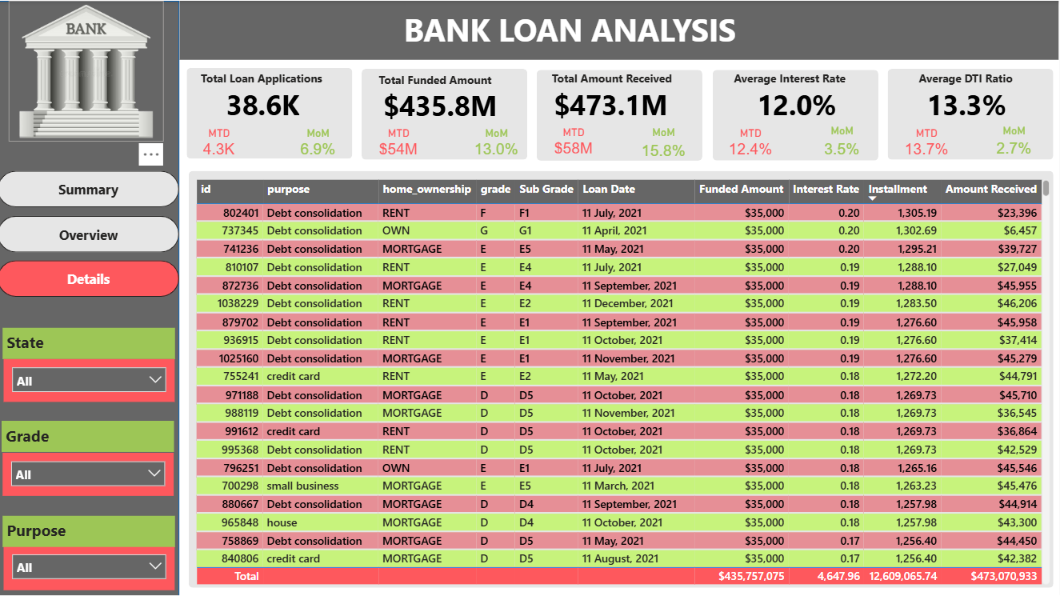

The page's visual inventory and layout, read from the dashboard file:
{"tool":"powerbi","page":{"name":"Details","canvas":[1280,720],"ordinal":2},"visuals":[{"type":"shape","box":[0,0,219.3,719.9],"z":0},{"type":"shape","box":[219.6,0,1060.5,71.2],"z":1000},{"type":"textbox","box":[485,4.8,439.1,60.3],"z":2000},{"type":"shape","box":[228,80.8,200,109.8],"z":3000},{"type":"cardVisual","fields":{"Data":["bank_project financial_loan.Total Loan Application"]},"box":[230.2,96.8,179.8,53.1],"z":4000},{"type":"textbox","box":[239.8,79.9,161.7,32.6],"z":5000},{"type":"cardVisual","title":"MTD","fields":{"Data":["bank_project financial_loan.MTD Loan Application"]},"box":[230.4,152,73.6,38.6],"z":6000},{"type":"shape","box":[439.4,82,200,109.8],"z":7000},{"type":"shape","box":[650.9,83.2,200,109.8],"z":8000},{"type":"shape","box":[1073.7,82,200,109.8],"z":9000},{"type":"shape","box":[862.3,83.7,200,109.6],"z":10000},{"type":"cardVisual","title":"MoM","fields":{"Data":["bank_project financial_loan.MoM Loan Application"]},"box":[345,152,83.2,38.6],"z":11000},{"type":"cardVisual","fields":{"Data":["bank_project financial_loan.Total Funded Amount"]},"box":[439.1,97.7,189.4,53.1],"z":12000},{"type":"textbox","box":[455.4,81.2,161.7,32.6],"z":13000},{"type":"cardVisual","title":"MTD","fields":{"Data":["bank_project financial_loan.MTD Funded Amount"]},"box":[441.6,152,84.5,38.6],"z":14000},{"type":"cardVisual","title":"MoM","fields":{"Data":["bank_project financial_loan.MoM Total Funded Ratio"]},"box":[553.8,152,96.5,38.6],"z":15000},{"type":"cardVisual","fields":{"Data":["bank_project financial_loan.Total Payment Received"]},"box":[653.9,96.5,171.3,53.1],"z":16000},{"type":"textbox","box":[663.9,80.2,161.7,32.6],"z":17000},{"type":"cardVisual","title":"MTD","fields":{"Data":["bank_project financial_loan.MTD Total Amount Received"]},"box":[650.3,150.8,89.3,38.6],"z":18000},{"type":"cardVisual","title":"MoM","fields":{"Data":["bank_project financial_loan.MoM Payment Received Ratio"]},"box":[756.4,150.8,94.1,43.4],"z":19000},{"type":"cardVisual","fields":{"Data":["bank_project financial_loan.Average Amount Ratio"]},"box":[863.8,96.5,200.3,53.1],"z":20000},{"type":"textbox","box":[883.1,79.6,161.7,32.6],"z":21000},{"type":"cardVisual","title":"MTD","fields":{"Data":["bank_project financial_loan.MTD Avg Interest Rate"]},"box":[863.8,152,89.3,38.6],"z":22000},{"type":"cardVisual","title":"MoM","fields":{"Data":["bank_project financial_loan.MoM Avg Interest"]},"box":[973.6,149.6,90.5,43.4],"z":23000},{"type":"cardVisual","fields":{"Data":["bank_project financial_loan.Avg DTI"]},"box":[1073.7,96.5,190.6,53.1],"z":24000},{"type":"textbox","box":[1086.6,79.2,161.7,32.6],"z":25000},{"type":"cardVisual","title":"MTD","fields":{"Data":["bank_project financial_loan.MTD Avg DTI"]},"box":[1073.7,152,94.1,39.8],"z":26000},{"type":"cardVisual","title":"MoM","fields":{"Data":["bank_project financial_loan.MoM Avg DTI"]},"box":[1178.7,149.6,95.3,42.2],"z":27000},{"type":"shape","box":[230.4,205.1,1043.6,503.1],"z":28000},{"type":"slicer","fields":{"Values":["bank_project financial_loan.address_state"]},"box":[7.2,431.8,206.3,51.9],"z":29000},{"type":"slicer","fields":{"Values":["bank_project financial_loan.grade"]},"box":[6,544.8,206.3,51.9],"z":30000},{"type":"slicer","fields":{"Values":["bank_project financial_loan.purpose"]},"box":[7.2,657.8,206.3,53.4],"z":31000},{"type":"textbox","box":[5.8,394.3,207.8,37.5],"z":32000},{"type":"textbox","box":[4.3,506.8,207.8,37.5],"z":33000},{"type":"textbox","box":[5.8,621.3,207.8,37.5],"z":34000},{"type":"image","box":[13.3,0,187,170.1],"z":35000},{"type":"tableEx","fields":{"Values":["bank_project financial_loan.id","bank_project financial_loan.purpose","bank_project financial_loan.home_ownership","bank_project financial_loan.grade","bank_project financial_loan.sub_grade","bank_project financial_loan.Loan_date","bank_project financial_loan.Total Funded Amount","Sum(bank_project financial_loan.int_rate)","Sum(bank_project financial_loan.installment)","bank_project financial_loan.Total Amount Received"]},"box":[233.7,210.6,1040.2,497.8],"z":36000},{"type":"pageNavigator","box":[0,205.1,219.6,152],"z":37000}]}

Visuals, with their boxes in screenshot pixels (x1, y1, x2, y2), scaled from the page's 1280x720 canvas onto the 1060x596 screenshot:
shape: 0,0,182,595
shape: 182,0,1059,59
textbox: 402,4,765,54
shape: 189,67,354,158
cardVisual - bank_project financial_loan.Total Loan Application: 191,80,340,124
textbox: 199,66,332,93
"MTD" cardVisual: 191,126,252,158
shape: 364,68,530,159
shape: 539,69,705,160
shape: 889,68,1055,159
shape: 714,69,880,160
"MoM" cardVisual: 286,126,355,158
cardVisual - bank_project financial_loan.Total Funded Amount: 364,81,520,125
textbox: 377,67,511,94
"MTD" cardVisual: 366,126,436,158
"MoM" cardVisual: 459,126,539,158
cardVisual - bank_project financial_loan.Total Payment Received: 542,80,683,124
textbox: 550,66,684,93
"MTD" cardVisual: 539,125,612,157
"MoM" cardVisual: 626,125,704,161
cardVisual - bank_project financial_loan.Average Amount Ratio: 715,80,881,124
textbox: 731,66,865,93
"MTD" cardVisual: 715,126,789,158
"MoM" cardVisual: 806,124,881,160
cardVisual - bank_project financial_loan.Avg DTI: 889,80,1047,124
textbox: 900,66,1034,93
"MTD" cardVisual: 889,126,967,159
"MoM" cardVisual: 976,124,1055,159
shape: 191,170,1055,586
slicer - bank_project financial_loan.address_state: 6,357,177,400
slicer - bank_project financial_loan.grade: 5,451,176,494
slicer - bank_project financial_loan.purpose: 6,545,177,589
textbox: 5,326,177,357
textbox: 4,420,176,451
textbox: 5,514,177,545
image: 11,0,166,141
tableEx - bank_project financial_loan.id x bank_project financial_loan.purpose: 194,174,1055,586
pageNavigator: 0,170,182,296
